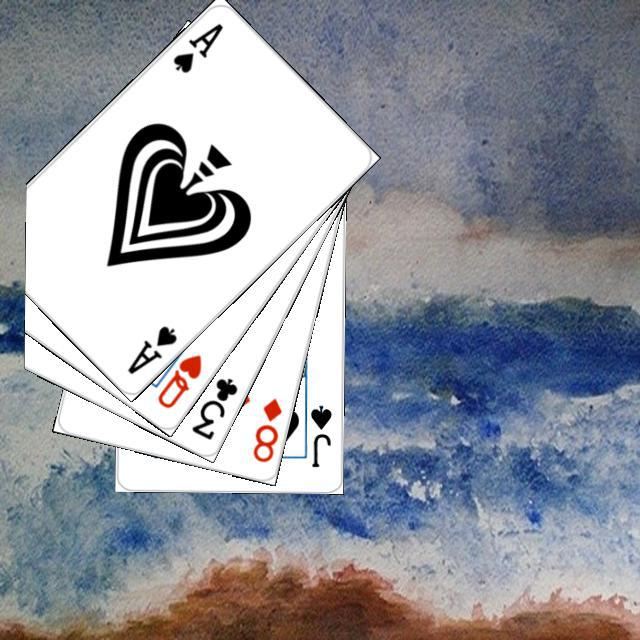3c: (186, 372, 239, 442)
8d: (247, 393, 284, 464)
As: (167, 18, 225, 75), (122, 320, 179, 377)
Js: (305, 400, 334, 469)
Qh: (152, 349, 204, 411)
